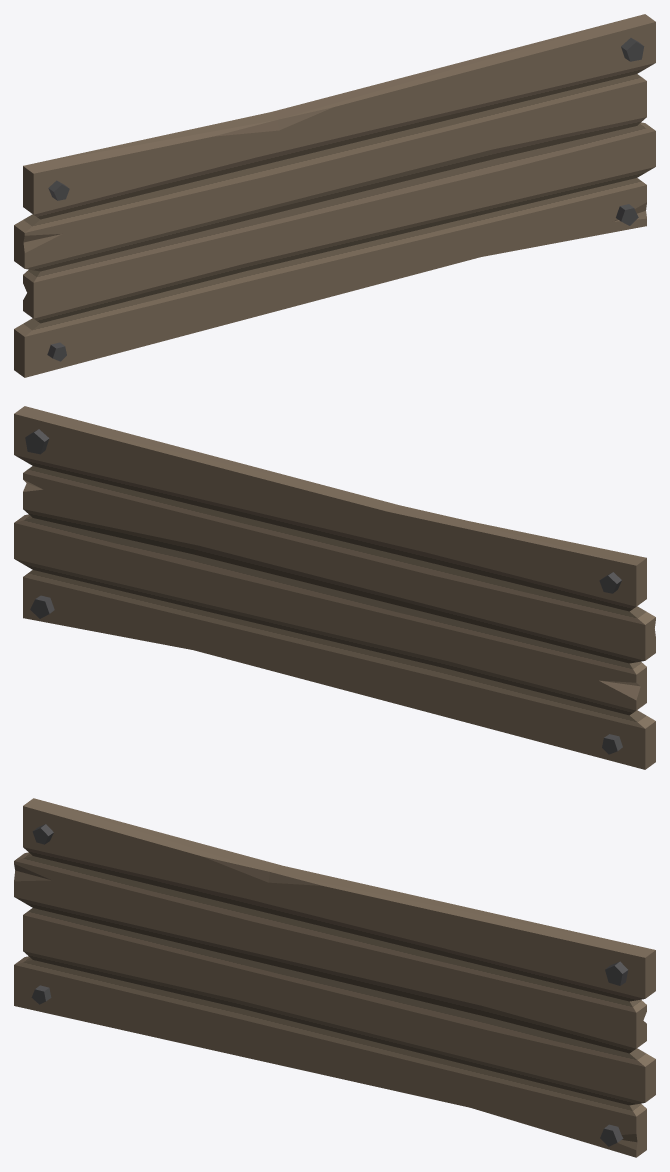
File: SM_Bld_Village_Fence_04.glb
3 renders of one model, top to bottom at view 1: azimuth 30°, elevation 25°; view 2: azimuth 150°, elevation 25°; view 3: azimuth 330°, elevation 25°, orthographic.
Visible parts, largest first — view 1: SM_Bld_Village_Fence_04; view 2: SM_Bld_Village_Fence_04; view 3: SM_Bld_Village_Fence_04.
Boxes of the visible parts, x1=… form: SM_Bld_Village_Fence_04: x1=14, y1=14, x2=655, y2=377; SM_Bld_Village_Fence_04: x1=14, y1=406, x2=655, y2=769; SM_Bld_Village_Fence_04: x1=14, y1=798, x2=655, y2=1157.
Size of the model in its own units: 2.93 by 0.897 by 0.1737.
Materials: 1 (1 with a texture image).
